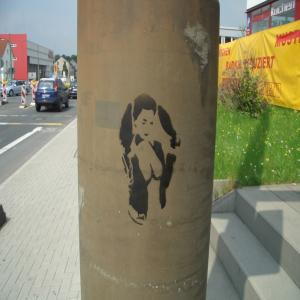Vehicle-registration-plate: (43, 93, 50, 98)
